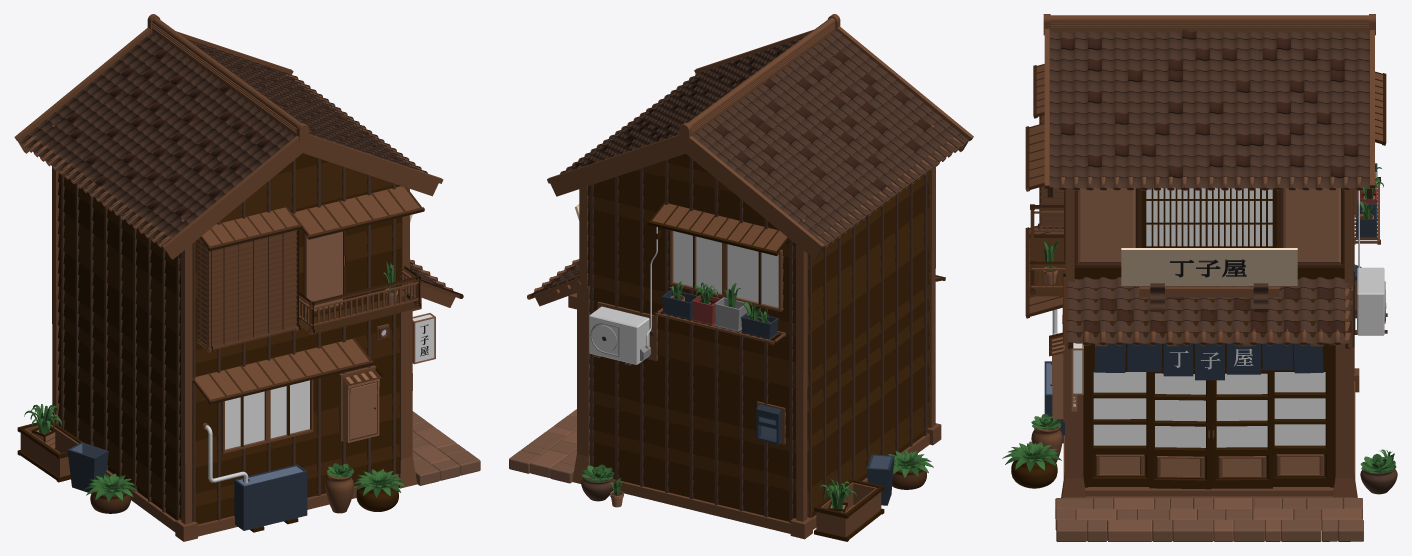
Rendered from CarnationShop.gltf.
3 views of the same model, side by side, from view 1: azimuth 30°, elevation 25°; view 2: azimuth 150°, elevation 25°; view 3: azimuth 270°, elevation 25° (orthographic). The views are drawn at different scales.
Parts seen in each view (by area): view 1: main_walls.001, 2_roof_support.001, 2_side_bigbox.001, 1_pillars.001, 1_side_roof.001, 1_side_window.001, 1_side_tank.001, 2_side_balcony.001, 2_side_roof.003, 2_side_door.001, 2_top_decoration.001, 0_tile.001 (+10 smaller); view 2: main_walls.001, 2_roof_support.001, 1_pillars.001, 2_side_window.001, 2_side_roof.002, 2_side_windowsill.001, 2_side_fan.001, 0_tile.001, 2_top_decoration.001, back_box.001, 0_base.002, plant.001 (+8 smaller); view 3: 2_roof_support.001, 1_main_doors.001, 2_main_window.001, 1_roof_main.001, 0_tile.001, 1_sign.001, 1_flags.001, 2_top_decoration.001, 1_pillars.001, base_main.001, 2_side_balcony.001, 1_base_support.001 (+18 smaller).
Boxes of the visible parts, left/top/right/bottom form: main_walls.001: left=58, top=153, right=401, bottom=524; 2_roof_support.001: left=14, top=27, right=443, bottom=259; 2_side_bigbox.001: left=196, top=206, right=302, bottom=352; 1_pillars.001: left=52, top=120, right=417, bottom=541; 1_side_roof.001: left=192, top=338, right=373, bottom=404; 1_side_window.001: left=220, top=379, right=313, bottom=453; 1_side_tank.001: left=202, top=423, right=307, bottom=532; 2_side_balcony.001: left=299, top=266, right=421, bottom=334; 2_side_roof.003: left=291, top=186, right=424, bottom=239; 2_side_door.001: left=303, top=231, right=345, bottom=316; 2_top_decoration.001: left=147, top=14, right=309, bottom=142; 0_tile.001: left=412, top=411, right=480, bottom=485; main_walls.001: left=587, top=153, right=929, bottom=522; 2_roof_support.001: left=547, top=26, right=973, bottom=259; 1_pillars.001: left=572, top=121, right=941, bottom=539; 2_side_window.001: left=670, top=230, right=783, bottom=311; 2_side_roof.002: left=648, top=202, right=788, bottom=255; 2_side_windowsill.001: left=654, top=289, right=787, bottom=345; 2_side_fan.001: left=589, top=227, right=657, bottom=365; 0_tile.001: left=509, top=409, right=576, bottom=483; 2_top_decoration.001: left=679, top=14, right=840, bottom=142; back_box.001: left=814, top=479, right=884, bottom=541; 0_base.002: left=613, top=433, right=929, bottom=533; plant.001: left=887, top=450, right=933, bottom=489; 2_roof_support.001: left=1044, top=29, right=1374, bottom=198; 1_main_doors.001: left=1088, top=368, right=1330, bottom=489; 2_main_window.001: left=1074, top=187, right=1344, bottom=267; 1_roof_main.001: left=1067, top=277, right=1351, bottom=343; 0_tile.001: left=1055, top=498, right=1363, bottom=541; 1_sign.001: left=1121, top=248, right=1297, bottom=312; 1_flags.001: left=1094, top=343, right=1323, bottom=380; 2_top_decoration.001: left=1043, top=14, right=1375, bottom=35; 1_pillars.001: left=1061, top=244, right=1359, bottom=497; base_main.001: left=1074, top=268, right=1344, bottom=487; 2_side_balcony.001: left=1029, top=204, right=1065, bottom=296; 1_base_support.001: left=1085, top=487, right=1333, bottom=496.
Size of the model in its own units: 2.55 by 2.84 by 2.36.
